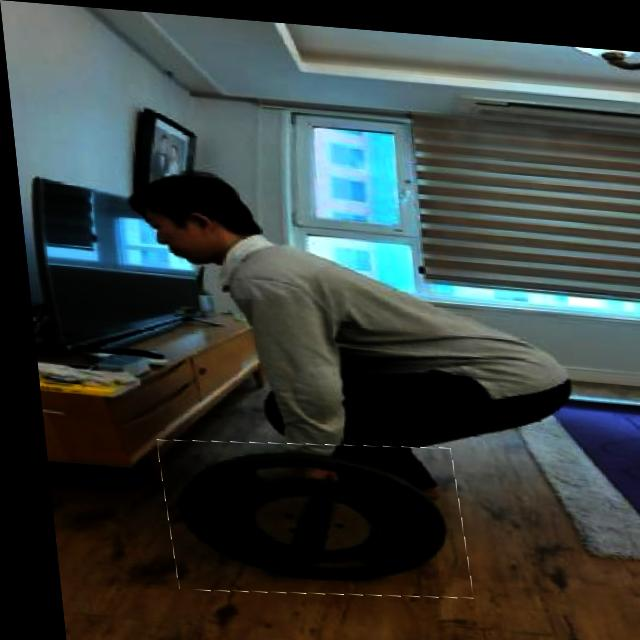barbell: (150, 428, 462, 603)
